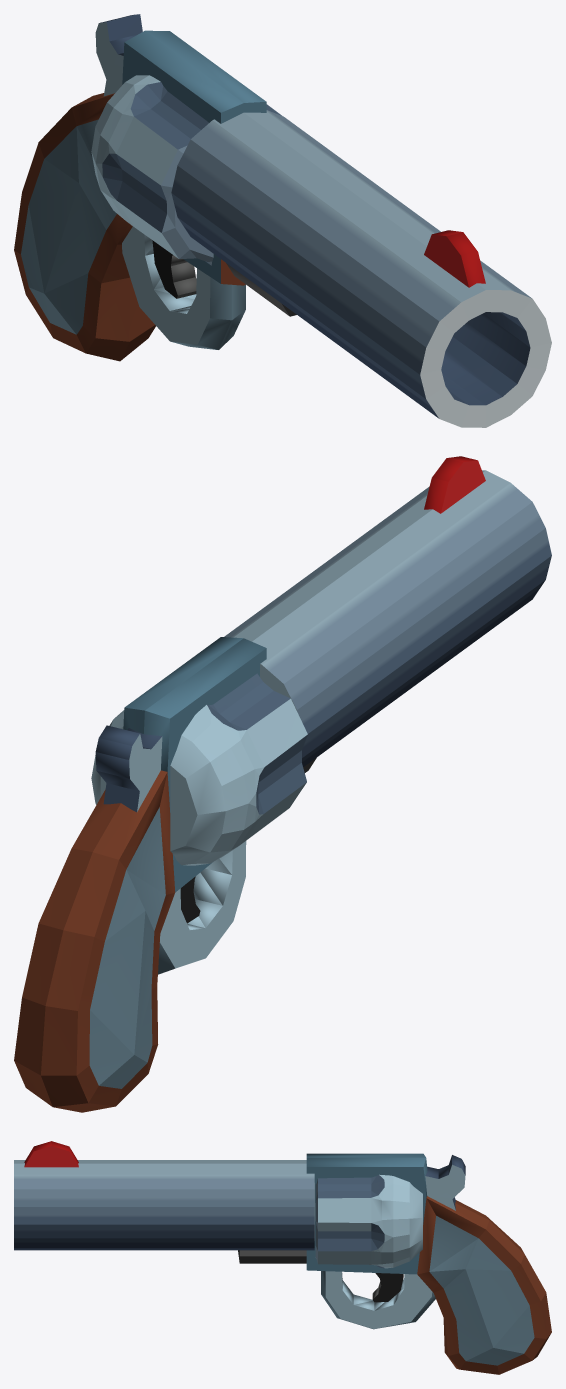
File: Gun.fbx
3 renders of one model, top to bottom at view 1: azimuth 30°, elevation 25°; view 2: azimuth 150°, elevation 25°; view 3: azimuth 270°, elevation 25°, orthographic. The views are drawn at different scales.
Parts seen in each view (by area): view 1: Gun; view 2: Gun; view 3: Gun.
Boxes of the visible parts, left/top/right/bottom form: Gun: left=14, top=14, right=551, bottom=427; Gun: left=14, top=456, right=551, bottom=1112; Gun: left=14, top=1141, right=551, bottom=1374.
Bounding box in the file's own units: 0.1864 × 0.9336 × 0.4393.
